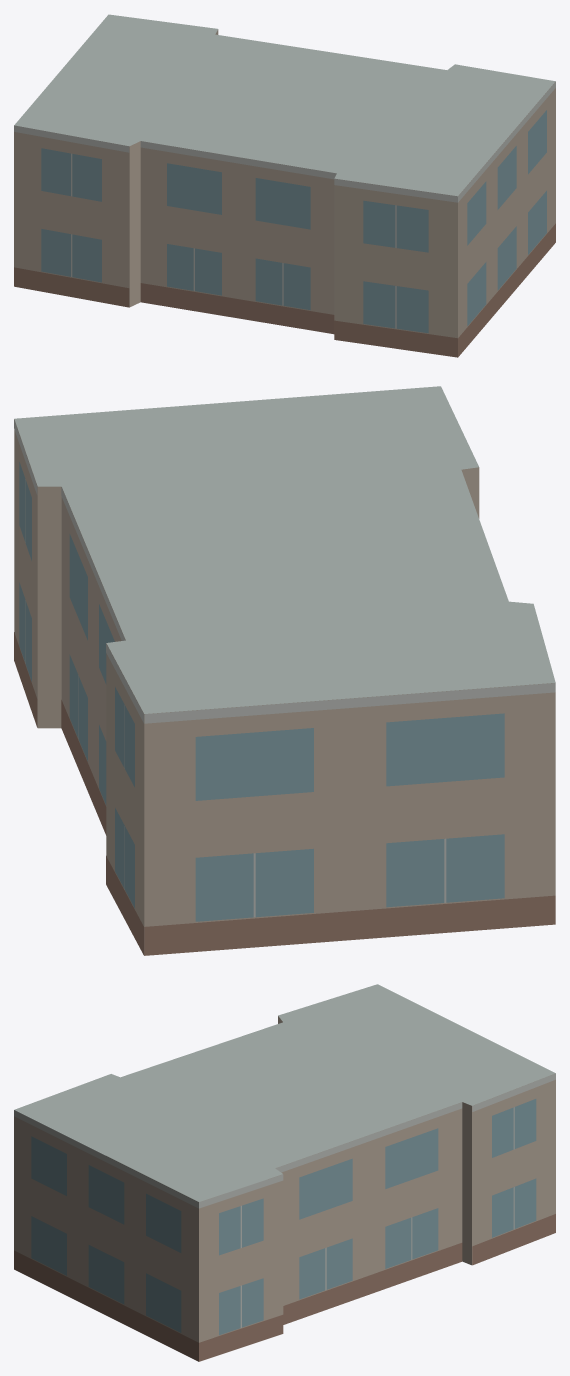
The model's file is survey-upis-32642146.glb.
3 renders of one model, top to bottom at view 1: azimuth 30°, elevation 25°; view 2: azimuth 150°, elevation 25°; view 3: azimuth 270°, elevation 25°, orthographic. The views are drawn at different scales.
Parts seen in each view (by area): view 1: survey-upis-32642146.tmp; view 2: survey-upis-32642146.tmp; view 3: survey-upis-32642146.tmp.
Boxes of the visible parts, bbox=[...] form: survey-upis-32642146.tmp: bbox=[14, 14, 555, 357]; survey-upis-32642146.tmp: bbox=[14, 386, 555, 955]; survey-upis-32642146.tmp: bbox=[14, 984, 555, 1361].
Bounding box in the file's own units: 17.88 × 6.1 × 18.78.
